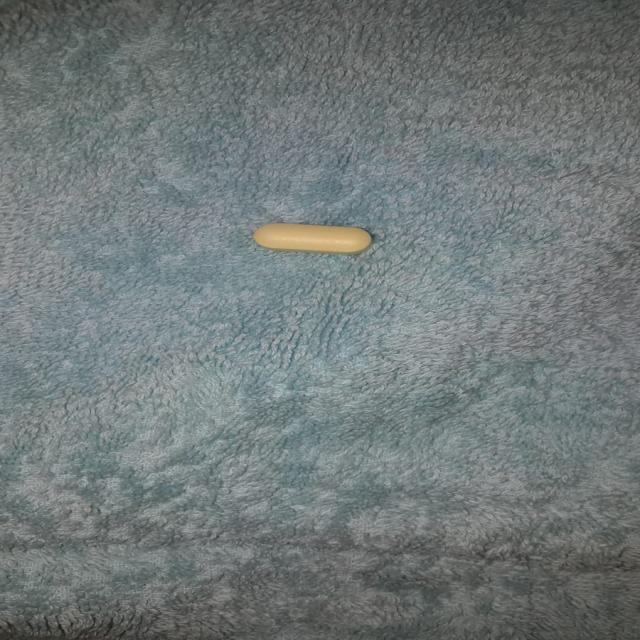pills: (240, 212, 391, 265)
